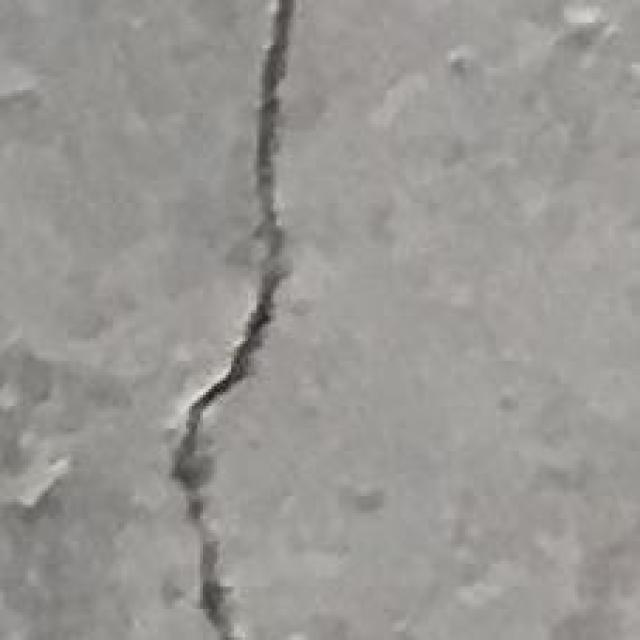Crack: (161, 3, 307, 640)
